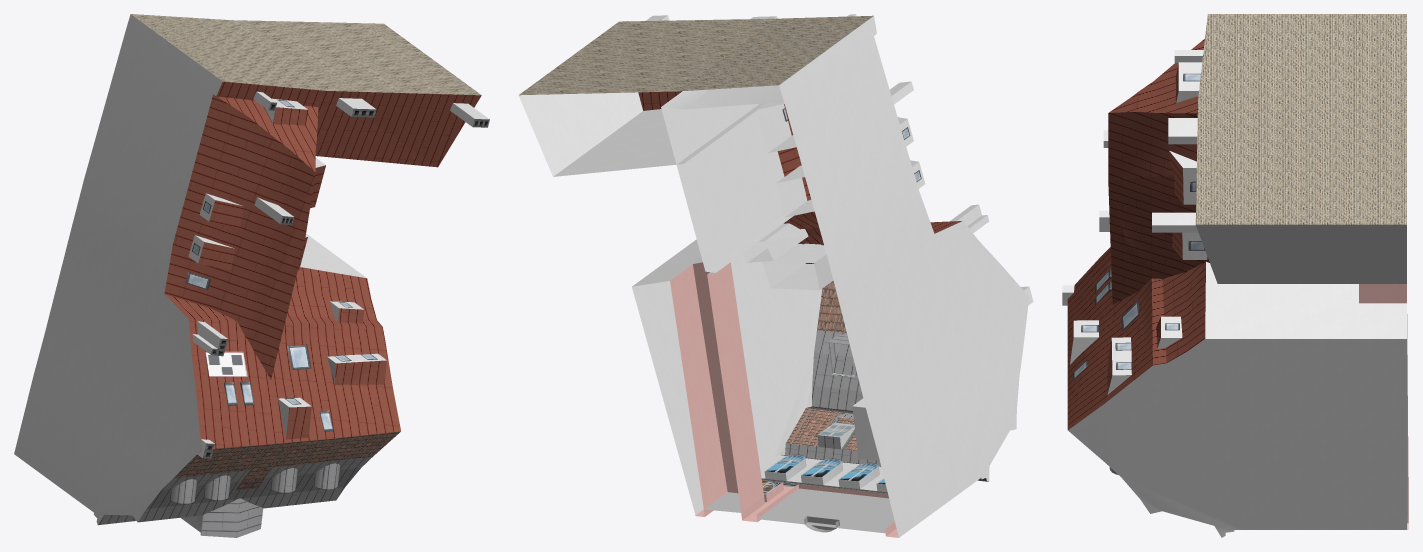
The model's file is Viru_3.obj.
The picture shows the model from 3 angles, left to right: view 1: azimuth 30°, elevation 25°; view 2: azimuth 150°, elevation 25°; view 3: azimuth 270°, elevation 25°; orthographic projection. The views are drawn at different scales.
Parts seen in each view (by area): view 1: Viru_3; view 2: Viru_3; view 3: Viru_3.
Part boxes in pixels (x1=…): Viru_3: x1=14, y1=14, x2=489, y2=537; Viru_3: x1=518, y1=14, x2=1033, y2=537; Viru_3: x1=1062, y1=14, x2=1408, y2=537.
Size of the model in its own units: 29.26 by 33.52 by 21.87.
